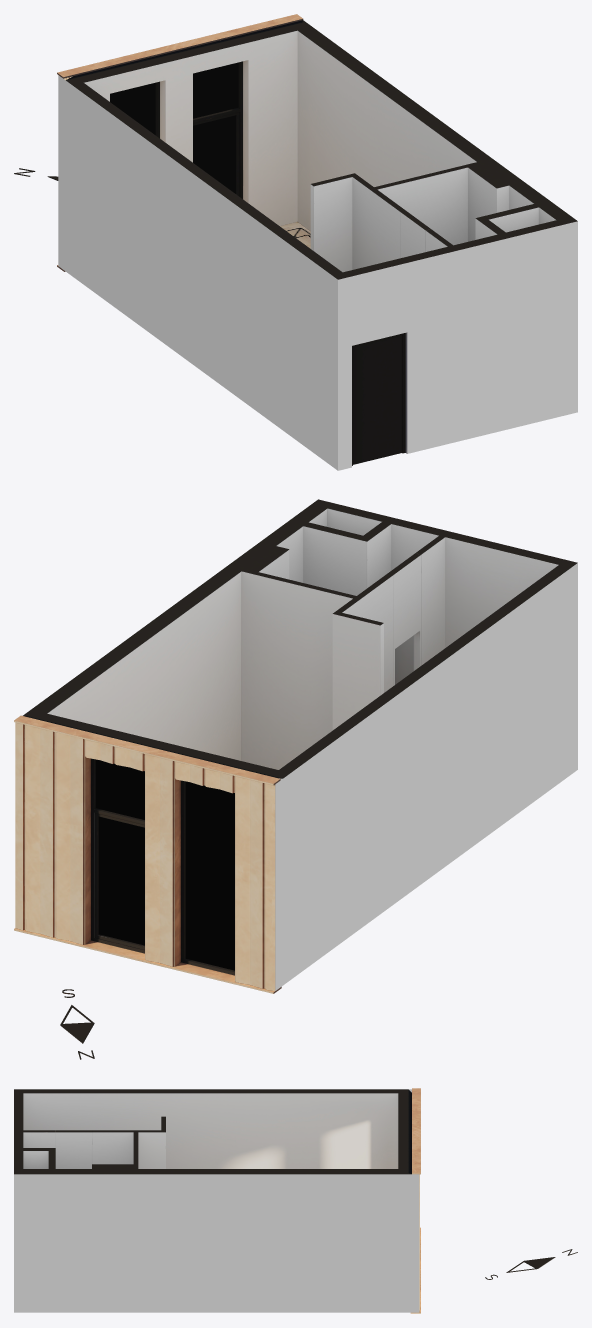
The picture shows the model from 3 angles, top to bottom: view 1: azimuth 30°, elevation 25°; view 2: azimuth 150°, elevation 25°; view 3: azimuth 270°, elevation 25°; orthographic projection. The views are drawn at different scales.
Parts seen in each view (by area): view 1: NO_BAKE_OUTERWALLS, 044_BAKED, GLASS; view 2: 044_BAKED, NO_BAKE_OUTERWALLS, GLASS; view 3: NO_BAKE_OUTERWALLS, 044_BAKED.
Boxes of the visible parts, x1=… form: NO_BAKE_OUTERWALLS: x1=58, y1=75, x2=577, y2=470; 044_BAKED: x1=14, y1=14, x2=577, y2=465; GLASS: x1=110, y1=62, x2=238, y2=193; 044_BAKED: x1=14, y1=499, x2=577, y2=1059; NO_BAKE_OUTERWALLS: x1=275, y1=563, x2=577, y2=990; GLASS: x1=95, y1=759, x2=234, y2=970; NO_BAKE_OUTERWALLS: x1=14, y1=1089, x2=419, y2=1312; 044_BAKED: x1=14, y1=1088, x2=577, y2=1313.
Bounding box in the file's own units: 4.34 × 3.59 × 12.18.
Materials: 4 (1 with a texture image).
